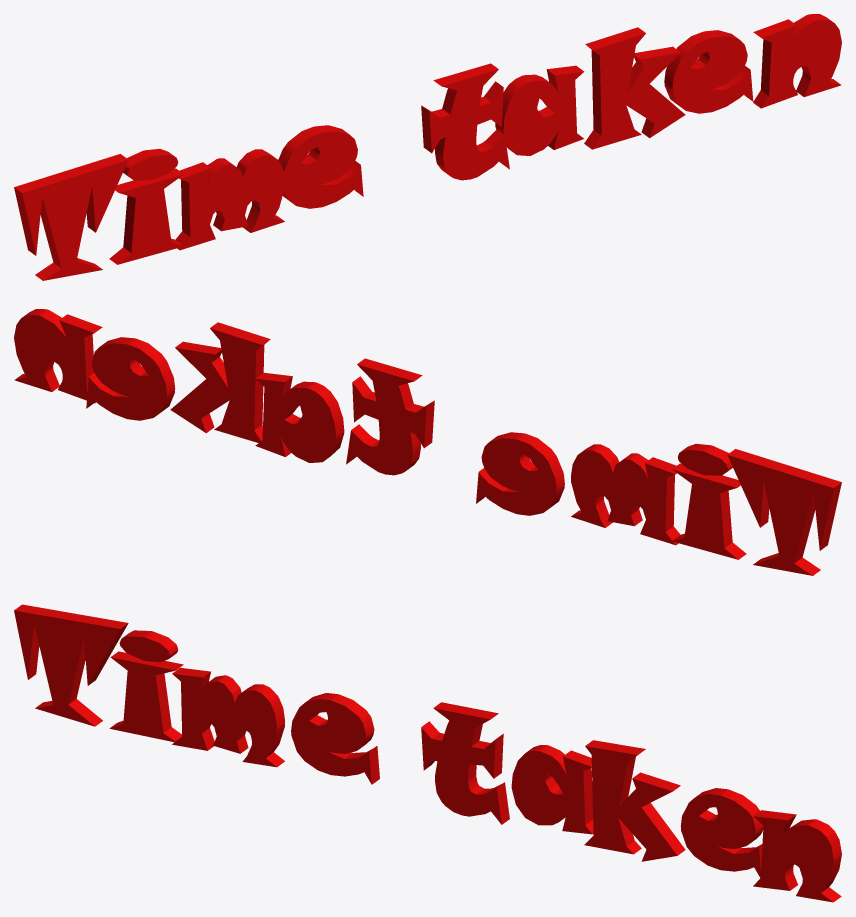
Rendered from Time Taken.fbx.
3 views of the same model, one above another, from view 1: azimuth 30°, elevation 25°; view 2: azimuth 150°, elevation 25°; view 3: azimuth 330°, elevation 25° (orthographic).
Parts seen in each view (by area): view 1: Trim_Char_T_1_1, Trim_Char_m_1_1, Trim_Char_k_1_1, Trim_Char_t_1_1, Trim_Char_n_1_1, Trim_Char_a_1_1, Trim_Char_e_2_1, Trim_Char_e_1_1, Trim_Char_i_1_1; view 2: Trim_Char_T_1_1, Trim_Char_m_1_1, Trim_Char_k_1_1, Trim_Char_t_1_1, Trim_Char_a_1_1, Trim_Char_e_1_1, Trim_Char_e_2_1, Trim_Char_n_1_1, Trim_Char_i_1_1; view 3: Trim_Char_T_1_1, Trim_Char_m_1_1, Trim_Char_k_1_1, Trim_Char_t_1_1, Trim_Char_n_1_1, Trim_Char_a_1_1, Trim_Char_e_1_1, Trim_Char_e_2_1, Trim_Char_i_1_1.
Part boxes in pixels (box(x1,y1,x2,y2)): Trim_Char_T_1_1: box(14, 154, 128, 280); Trim_Char_m_1_1: box(175, 149, 284, 250); Trim_Char_k_1_1: box(584, 27, 685, 149); Trim_Char_t_1_1: box(421, 63, 509, 180); Trim_Char_n_1_1: box(753, 14, 841, 108); Trim_Char_a_1_1: box(495, 65, 584, 155); Trim_Char_e_2_1: box(664, 30, 753, 113); Trim_Char_e_1_1: box(278, 125, 363, 208); Trim_Char_i_1_1: box(109, 148, 183, 264); Trim_Char_T_1_1: box(727, 449, 841, 575); Trim_Char_m_1_1: box(571, 444, 680, 545); Trim_Char_k_1_1: box(170, 322, 270, 442); Trim_Char_t_1_1: box(346, 358, 434, 475); Trim_Char_a_1_1: box(255, 372, 344, 462); Trim_Char_e_1_1: box(476, 432, 564, 515); Trim_Char_e_2_1: box(86, 337, 175, 420); Trim_Char_n_1_1: box(14, 309, 102, 403); Trim_Char_i_1_1: box(671, 443, 746, 559); Trim_Char_T_1_1: box(14, 604, 128, 726); Trim_Char_m_1_1: box(172, 667, 284, 767); Trim_Char_k_1_1: box(584, 740, 685, 861); Trim_Char_t_1_1: box(421, 702, 509, 824); Trim_Char_n_1_1: box(753, 810, 841, 902); Trim_Char_a_1_1: box(511, 745, 593, 834); Trim_Char_e_1_1: box(291, 693, 379, 784); Trim_Char_e_2_1: box(680, 788, 763, 877); Trim_Char_i_1_1: box(109, 630, 183, 742).
Bounding box in the file's own units: 6.16 × 0.7604 × 0.2134.
